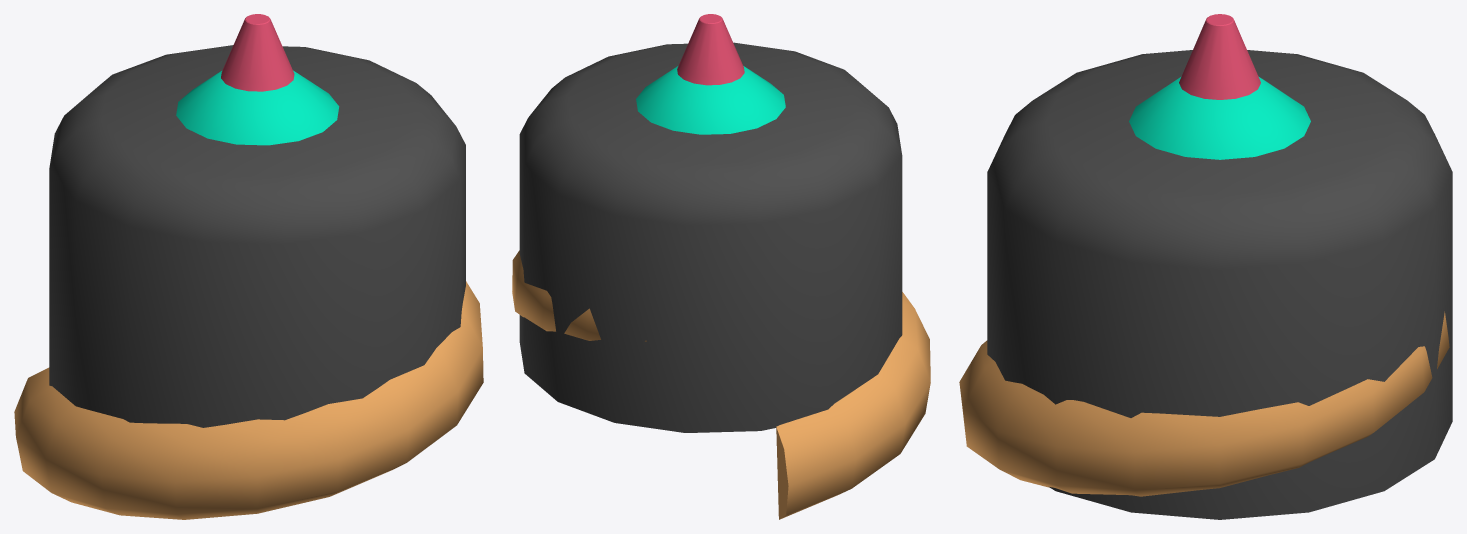
File: Head_Pieces.fbx
The picture shows the model from 3 angles, left to right: view 1: azimuth 30°, elevation 25°; view 2: azimuth 150°, elevation 25°; view 3: azimuth 270°, elevation 25°; orthographic projection. The views are drawn at different scales.
Visible parts, largest first — view 1: HeadP_Lv8, HeadP_Lv7, HeadP_Lv6; view 2: HeadP_Lv8, HeadP_Lv7, HeadP_Lv6; view 3: HeadP_Lv8, HeadP_Lv7, HeadP_Lv6.
Part boxes in pixels (x1,y1,x2,y2): HeadP_Lv8: [49, 45, 465, 427]; HeadP_Lv7: [14, 70, 483, 519]; HeadP_Lv6: [221, 14, 294, 91]; HeadP_Lv8: [519, 42, 902, 432]; HeadP_Lv7: [512, 66, 930, 519]; HeadP_Lv6: [677, 14, 744, 85]; HeadP_Lv8: [987, 50, 1452, 519]; HeadP_Lv7: [959, 76, 1449, 496]; HeadP_Lv6: [1179, 14, 1260, 99].
Size of the model in its own units: 2.39 by 2.59 by 2.28.
